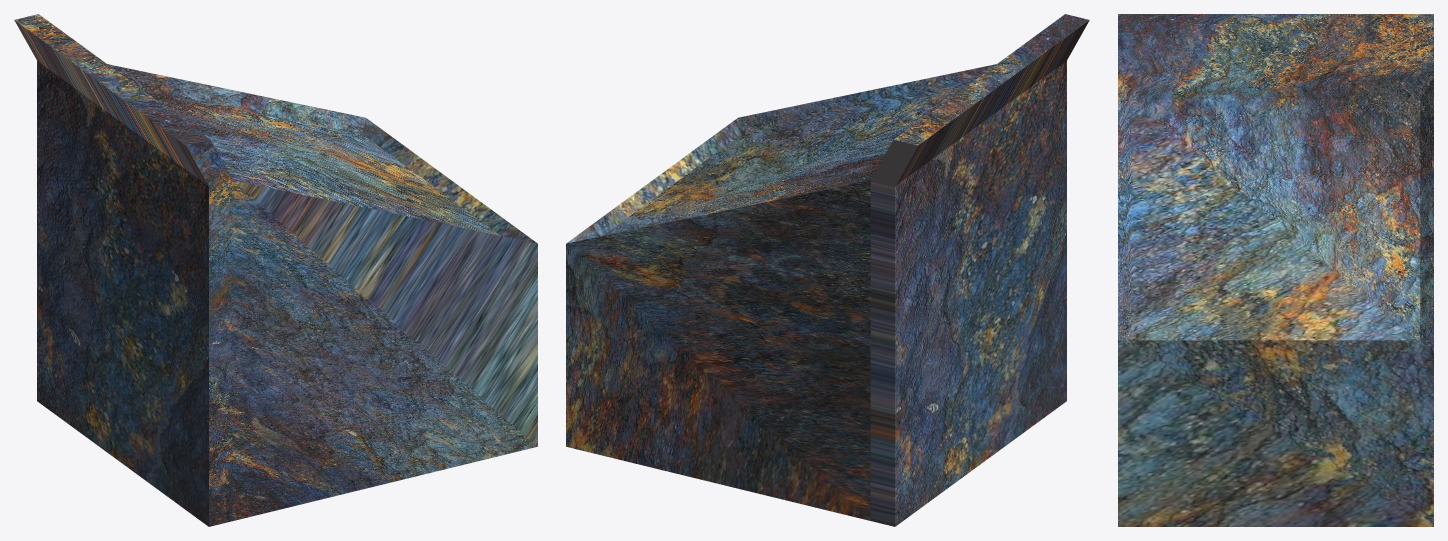
Rendered from PaintingSlot.fbx.
The picture shows the model from 3 angles, left to right: view 1: azimuth 30°, elevation 25°; view 2: azimuth 150°, elevation 25°; view 3: azimuth 270°, elevation 25°; orthographic projection. The views are drawn at different scales.
Visible parts, largest first — view 1: Cube; view 2: Cube; view 3: Cube.
Boxes of the visible parts, x1,y1,x2,y2 form: Cube: [14, 14, 537, 526]; Cube: [566, 14, 1089, 526]; Cube: [1118, 14, 1433, 526].
Bounding box in the file's own units: 362 × 381 × 307.
Materials: 1 (1 with a texture image).
